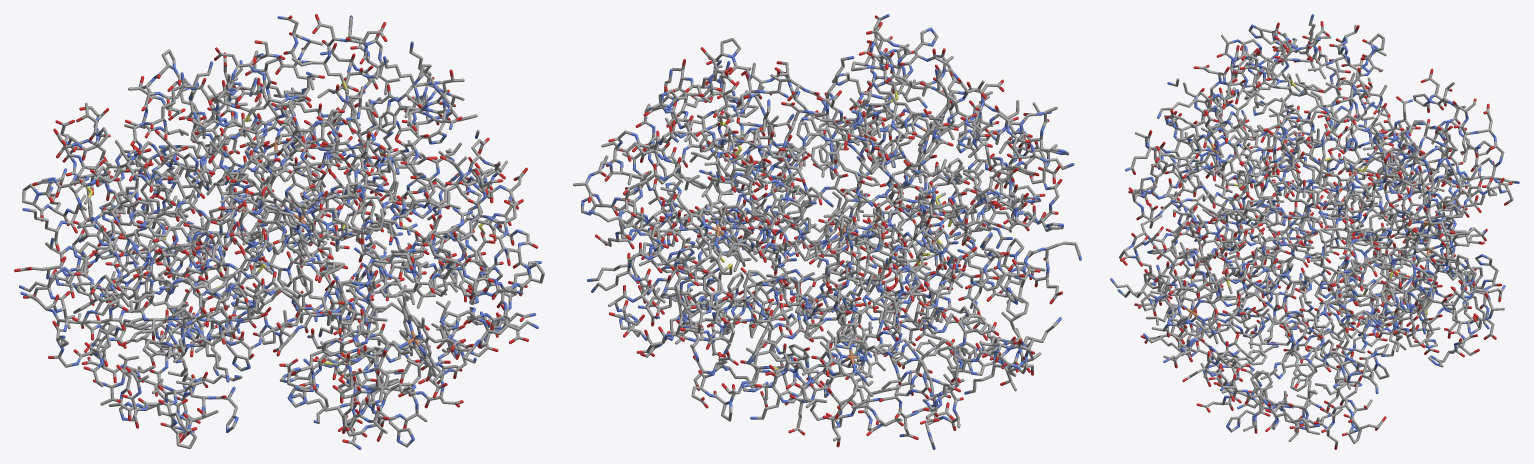
Rendered from hemoglobin-sticks.glb.
3 renders of one model, left to right at view 1: azimuth 30°, elevation 25°; view 2: azimuth 150°, elevation 25°; view 3: azimuth 270°, elevation 25°, orthographic. The views are drawn at different scales.
Visible parts, largest first — view 1: hemoglobin-sticks; view 2: hemoglobin-sticks; view 3: hemoglobin-sticks.
Part boxes in pixels (<box>): hemoglobin-sticks: <box>14,14,544,449</box>; hemoglobin-sticks: <box>573,14,1081,449</box>; hemoglobin-sticks: <box>1110,14,1519,449</box>.
Size of the model in its own units: 65.54 by 56.7 by 58.52.
